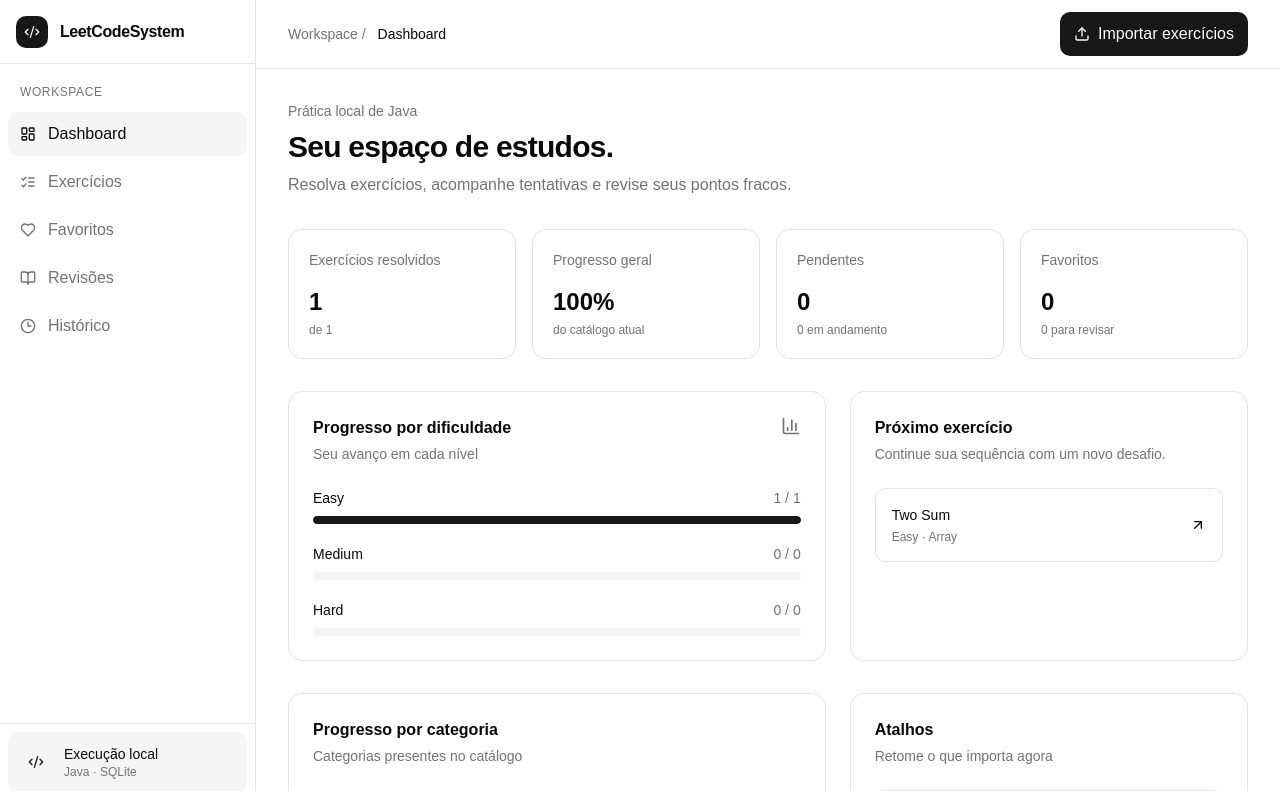
it: Judge integration in the solver › keeps the Judge result when post-submit progress refresh fails
This screenshot has width=1280, height=791.
Expected: the heading "Seu espaço de estudos." is shown, [288,130,613,163]
Step 1. Click the button "Exercícios" → click(128, 182), box [8,160,247,204]
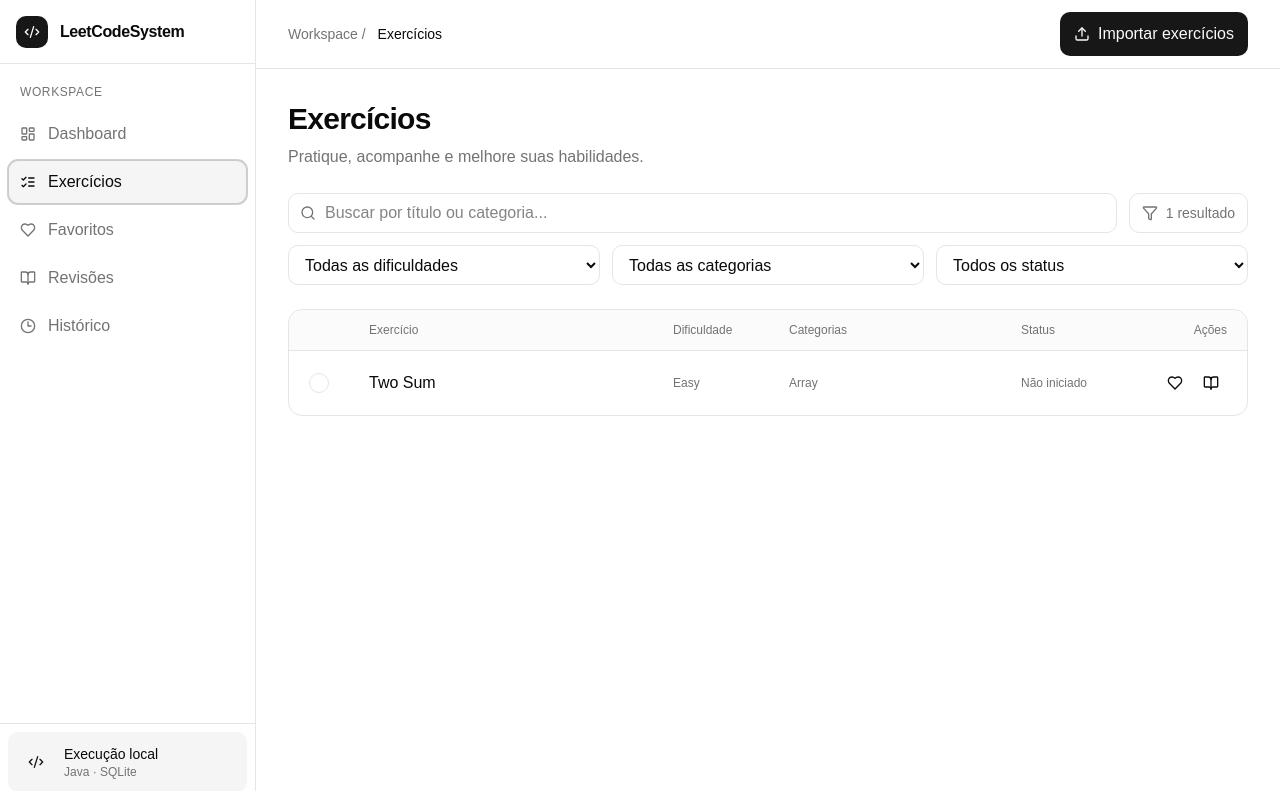
Step 2. Click the button "Two Sum" → click(402, 382), box [369,371,657,395]
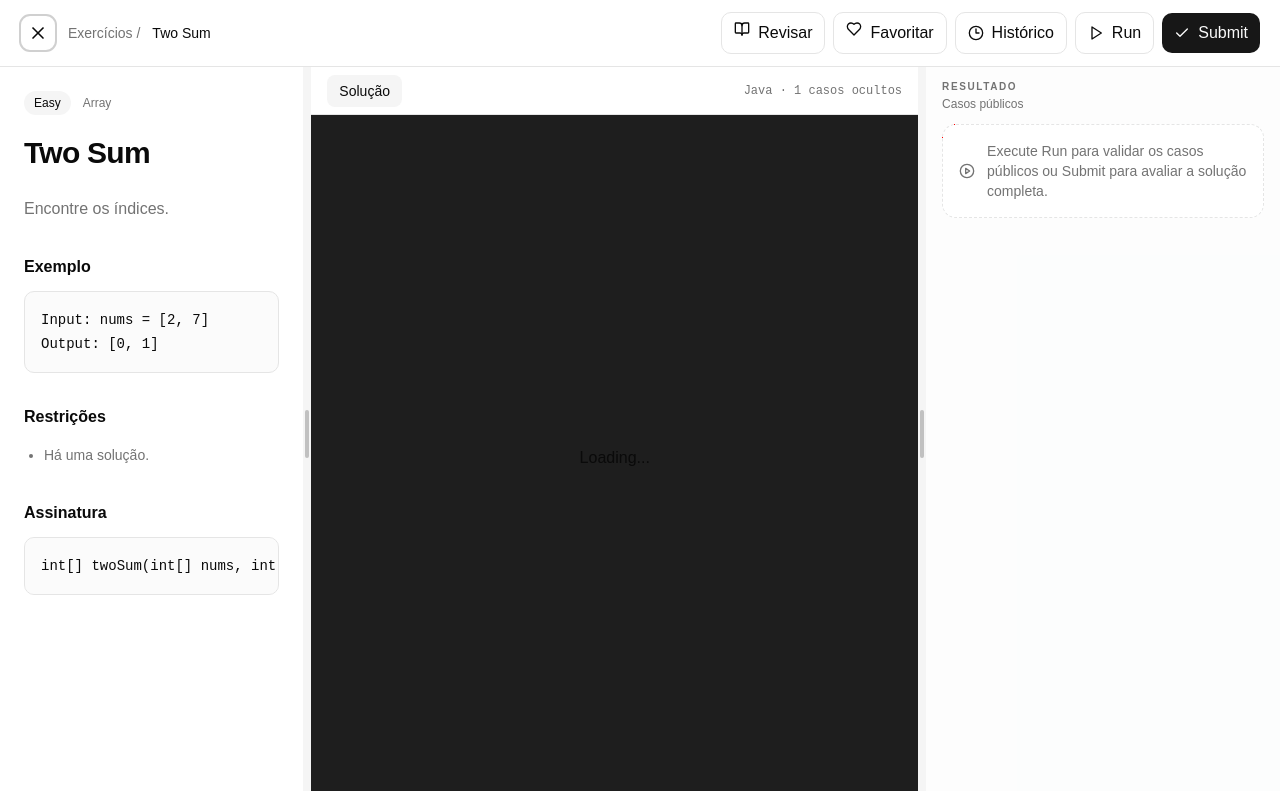
Step 3. Click the button "Submit" → click(1211, 33), box [1162,13,1260,53]
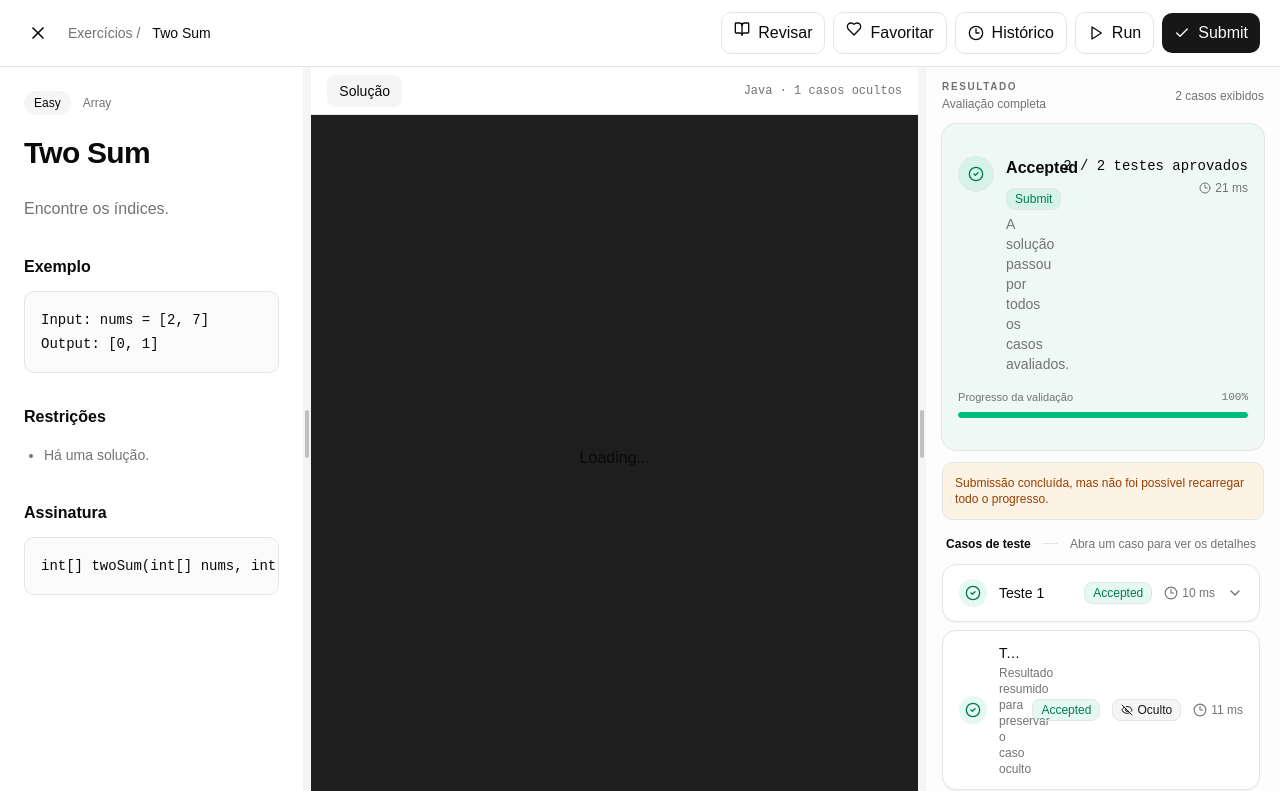
Expected: the number of headings "Accepted" is 3, [1006,156,1078,180]; [1084,582,1152,604]; [1032,699,1100,721]
Expected: the message "Submissão concluída, mas não foi possível recarregar todo o progresso." is shown, [942,462,1264,520]
